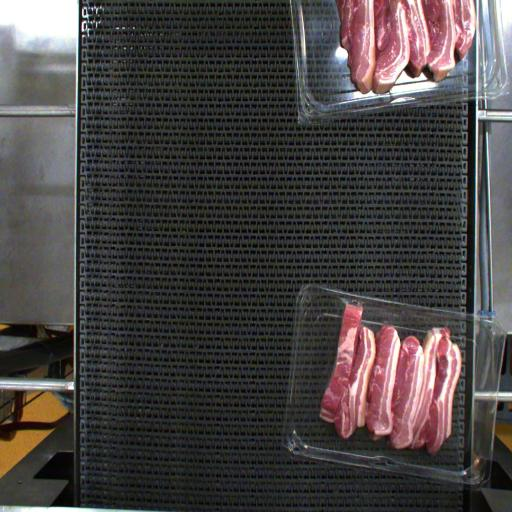packaging-error: (340, 286, 368, 311)
twisted-meat: (323, 298, 361, 420)
